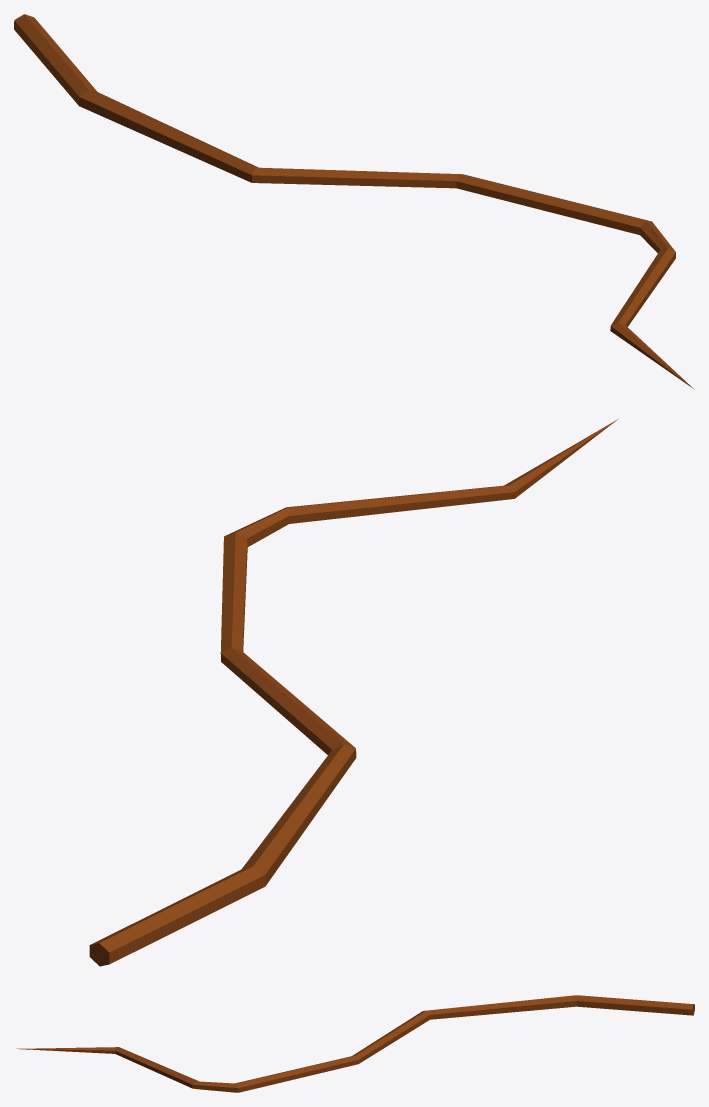
The model's file is Vegetation_Tree_Roots_Vines_Snaking_01.FBX.
3 views of the same model, one above another, from view 1: azimuth 30°, elevation 25°; view 2: azimuth 150°, elevation 25°; view 3: azimuth 270°, elevation 25° (orthographic). The views are drawn at different scales.
Parts seen in each view (by area): view 1: Vegetation_Tree_Roots_Vines_Snaking_01; view 2: Vegetation_Tree_Roots_Vines_Snaking_01; view 3: Vegetation_Tree_Roots_Vines_Snaking_01.
Part boxes in pixels (bbox=[...]): Vegetation_Tree_Roots_Vines_Snaking_01: bbox=[14, 14, 694, 389]; Vegetation_Tree_Roots_Vines_Snaking_01: bbox=[89, 419, 617, 966]; Vegetation_Tree_Roots_Vines_Snaking_01: bbox=[16, 995, 694, 1092].
Bounding box in the file's own units: 3018 × 177 × 9387.
